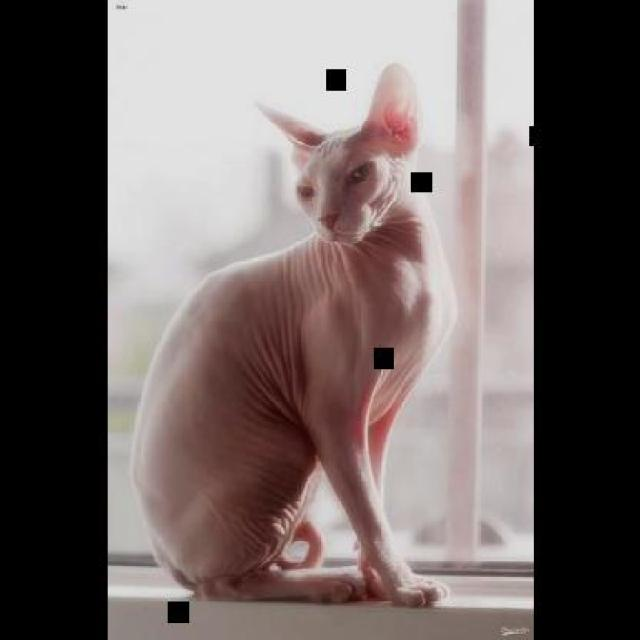unauthorized: (129, 62, 457, 608)
